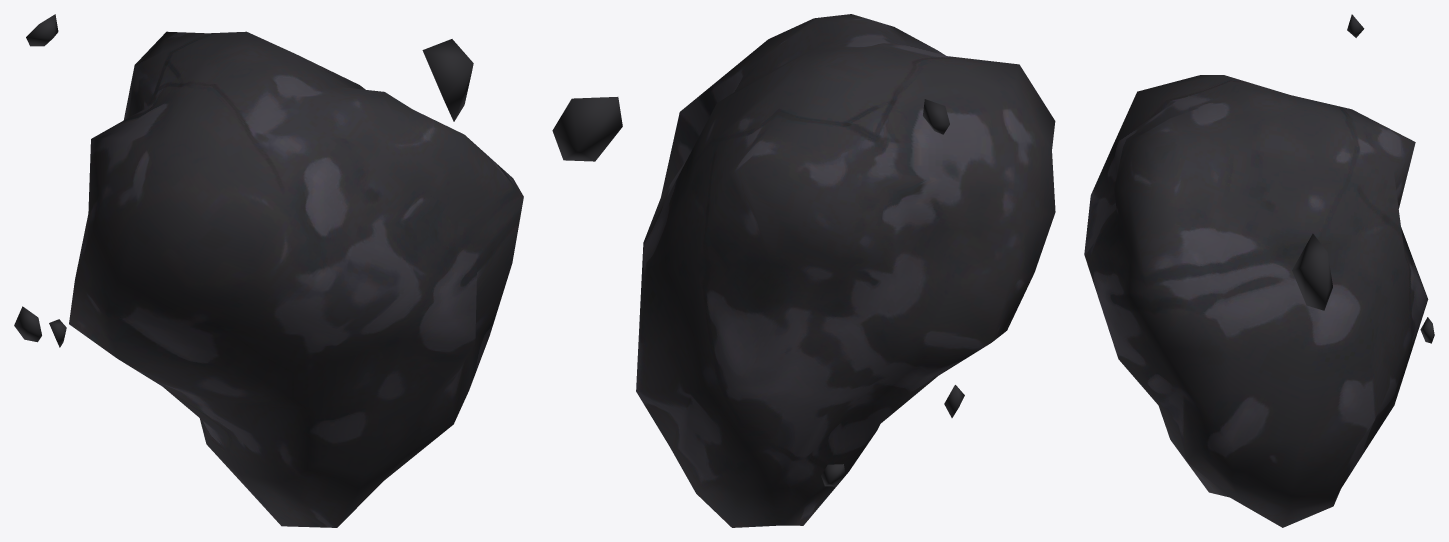
The model's file is Titan_Knurl.fbx.
The picture shows the model from 3 angles, left to right: view 1: azimuth 30°, elevation 25°; view 2: azimuth 150°, elevation 25°; view 3: azimuth 270°, elevation 25°; orthographic projection. The views are drawn at different scales.
Visible parts, largest first — view 1: mdlKnurl, KnurlPebble (×3); view 2: mdlKnurl, KnurlPebble (×2); view 3: mdlKnurl, KnurlPebble.
Boxes of the visible parts, x1,y1,x2,y2 form: mdlKnurl: (69,31,523,527); KnurlPebble (×3): (14,14,473,342); mdlKnurl: (636,14,1055,527); KnurlPebble (×2): (552,97,949,161); mdlKnurl: (1084,75,1428,527); KnurlPebble: (1292,233,1332,310).
Size of the model in its own units: 2.9 by 3.28 by 2.49.
2 materials, 1 textured.
